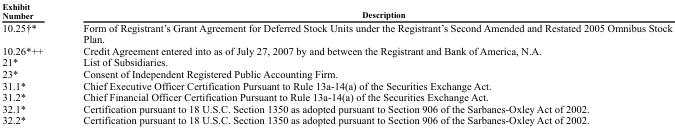table: (1, 0, 671, 125)
table column: (62, 0, 671, 125), (1, 0, 62, 125)
table column header: (1, 0, 671, 20)
table row: (1, 20, 671, 44), (1, 0, 671, 20), (1, 44, 671, 56), (1, 67, 671, 79), (1, 90, 671, 102), (1, 113, 671, 125), (1, 56, 671, 67), (1, 79, 671, 90), (1, 102, 671, 113)
